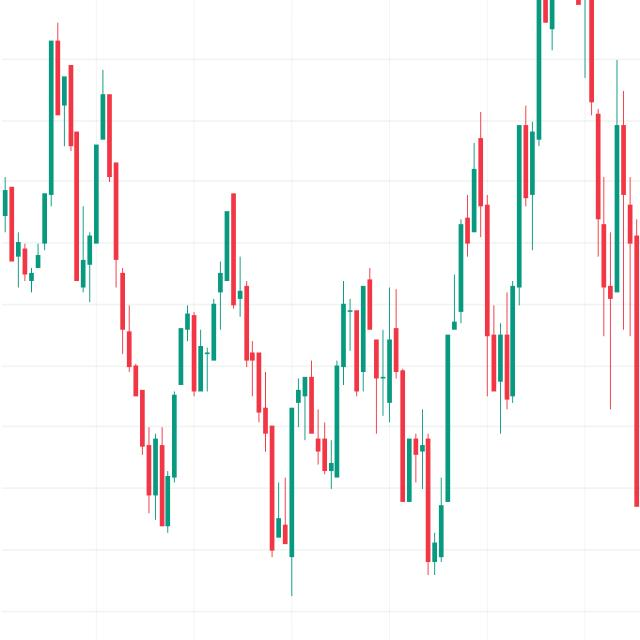Triple-Bottom: (110, 193, 460, 587)
